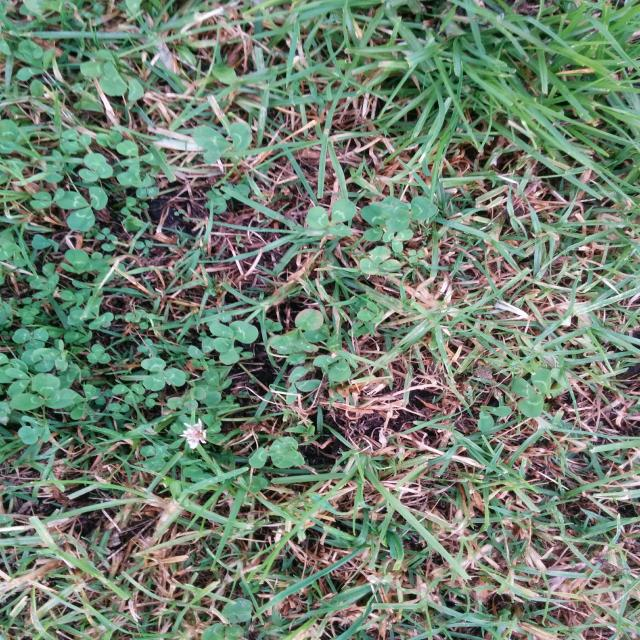Four Leaf Clover: (209, 321, 258, 364)
